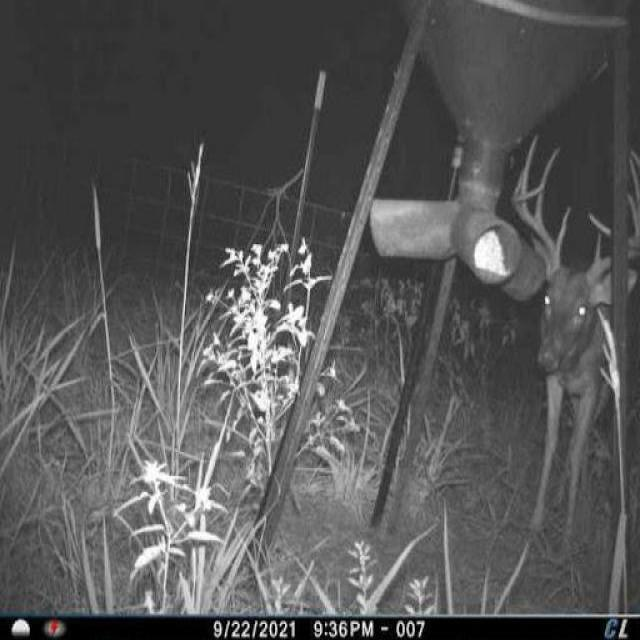deer: (512, 126, 640, 557)
